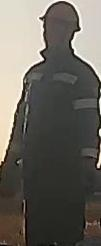gloves: (0, 146, 22, 199), (77, 154, 99, 197)
helmet: (38, 0, 82, 35)
vest: (20, 56, 100, 179)
